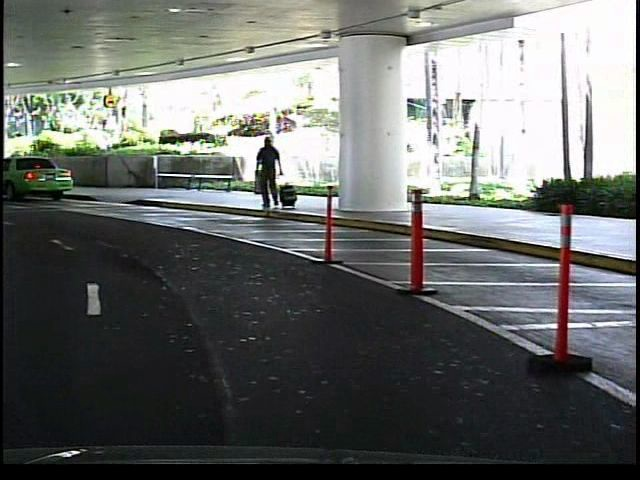person: (254, 131, 288, 214)
